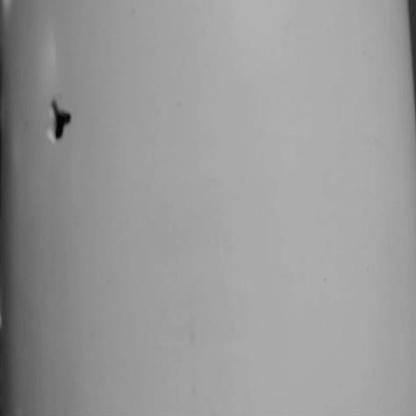kongdong: (49, 99, 74, 143)
